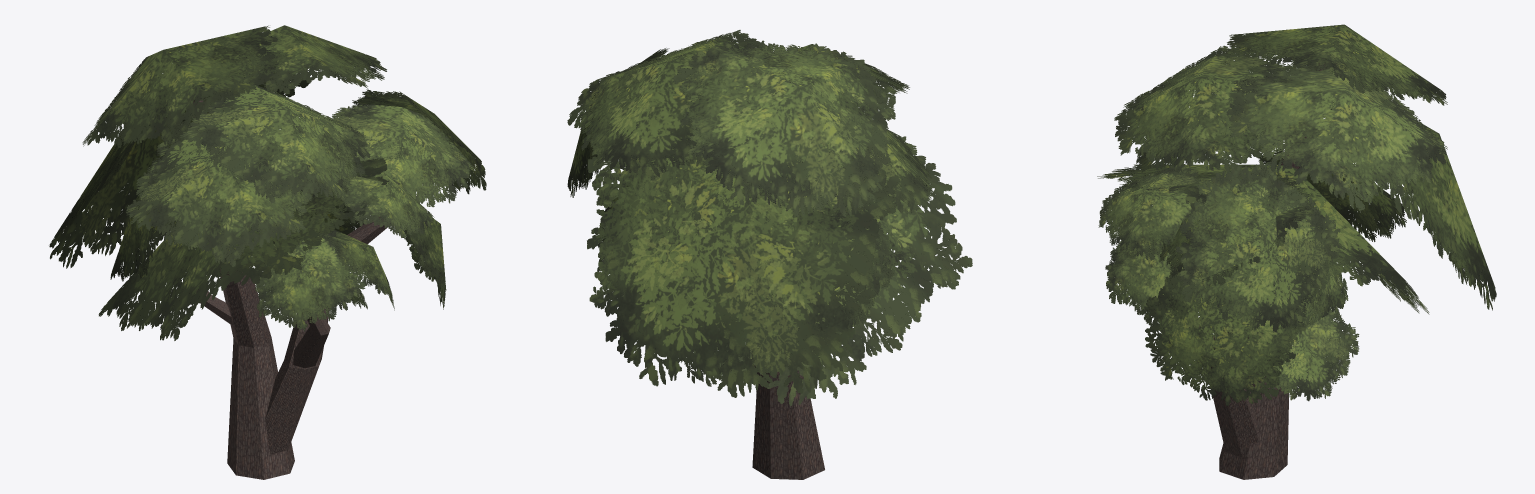
File: Oak01.fbx
The picture shows the model from 3 angles, left to right: view 1: azimuth 30°, elevation 25°; view 2: azimuth 150°, elevation 25°; view 3: azimuth 270°, elevation 25°; orthographic projection. The views are drawn at different scales.
Parts seen in each view (by area): view 1: Oak01; view 2: Oak01; view 3: Oak01.
Boxes of the visible parts, left/top/right/bottom form: Oak01: left=49, top=25, right=486, bottom=479; Oak01: left=567, top=30, right=972, bottom=479; Oak01: left=1097, top=24, right=1496, bottom=479.
Size of the model in its own units: 13.37 by 13.67 by 13.49.
2 materials, 2 textured.
